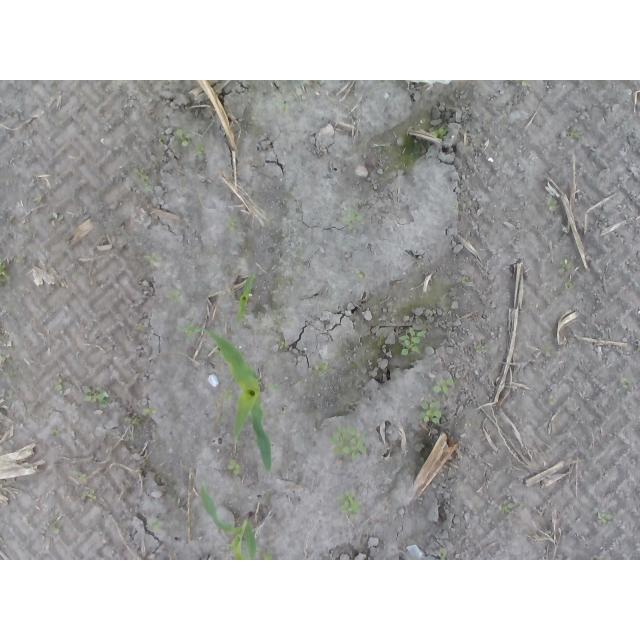Maize: (186, 325, 273, 475), (199, 486, 260, 560), (237, 273, 260, 324)
Weeds: (333, 425, 367, 463), (159, 130, 202, 158), (336, 493, 364, 520), (400, 328, 424, 356), (126, 406, 159, 426), (83, 387, 109, 408), (419, 403, 441, 425), (559, 258, 573, 290), (68, 468, 88, 489), (341, 211, 363, 230), (132, 169, 152, 189), (432, 379, 454, 396), (54, 379, 74, 393), (621, 377, 639, 392), (428, 127, 448, 139), (0, 258, 8, 288), (598, 511, 615, 525), (315, 363, 327, 382), (167, 288, 182, 303), (146, 520, 163, 533), (505, 501, 519, 514), (49, 523, 61, 538), (548, 200, 560, 215), (226, 215, 238, 229), (145, 253, 159, 264), (278, 100, 290, 112), (475, 344, 486, 356), (87, 488, 96, 502), (566, 130, 580, 139), (519, 82, 532, 91), (437, 550, 447, 559), (356, 270, 365, 279), (548, 396, 556, 405), (270, 382, 278, 390)
